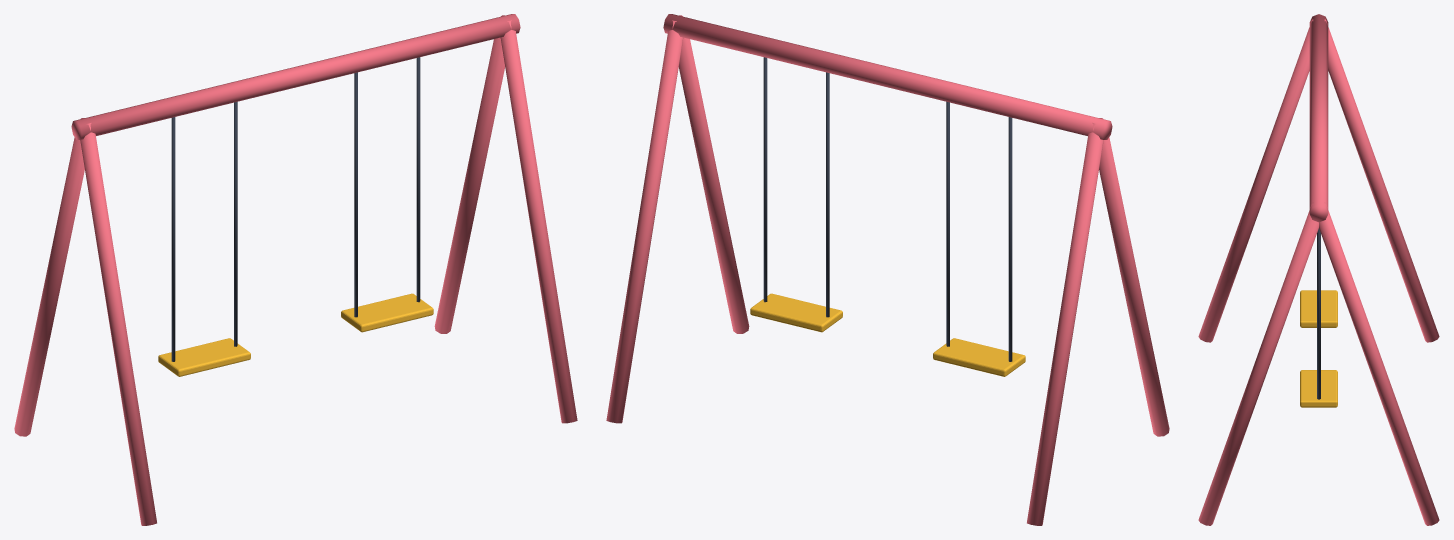
The model's file is swings.glb.
3 renders of one model, left to right at view 1: azimuth 30°, elevation 25°; view 2: azimuth 150°, elevation 25°; view 3: azimuth 270°, elevation 25°, orthographic. The views are drawn at different scales.
Parts seen in each view (by area): view 1: swings, swings_leg10, swings_leg00, swings_leg01, swings_leg11, swings_seat1, swings_seat0, swings_rope11, swings_rope00, swings_rope10, swings_rope01; view 2: swings, swings_leg11, swings_leg01, swings_leg00, swings_leg10, swings_seat1, swings_seat0, swings_rope11, swings_rope00, swings_rope10, swings_rope01; view 3: swings_leg10, swings_leg11, swings_leg00, swings_leg01, swings, swings_seat1, swings_seat0, swings_rope11.
Boxes of the visible parts, x1,y1,x2,y2 form: swings: (71,14,520,139); swings_leg10: (500,20,577,423); swings_leg00: (80,123,156,525); swings_leg01: (14,118,84,436); swings_leg11: (434,15,504,333); swings_seat1: (341,293,433,332); swings_seat0: (158,338,250,376); swings_rope11: (416,57,420,302); swings_rope00: (171,117,175,361); swings_rope10: (354,72,357,317); swings_rope01: (234,101,237,346); swings: (663,14,1112,139); swings_leg11: (606,20,683,423); swings_leg01: (1027,123,1103,525); swings_leg00: (1099,118,1169,436); swings_leg10: (679,15,749,333); swings_seat1: (750,293,842,332); swings_seat0: (933,338,1025,376); swings_rope11: (763,57,767,302); swings_rope00: (1008,117,1012,361); swings_rope10: (826,72,829,317); swings_rope01: (946,101,949,346); swings_leg10: (1198,202,1318,525); swings_leg11: (1319,202,1439,525); swings_leg00: (1198,19,1313,342); swings_leg01: (1324,19,1439,342); swings: (1309,14,1328,222); swings_seat1: (1300,370,1337,407); swings_seat0: (1300,290,1337,327); swings_rope11: (1317,228,1320,399).
Bounding box in the file's own units: 2.4 × 1.89 × 1.28.
